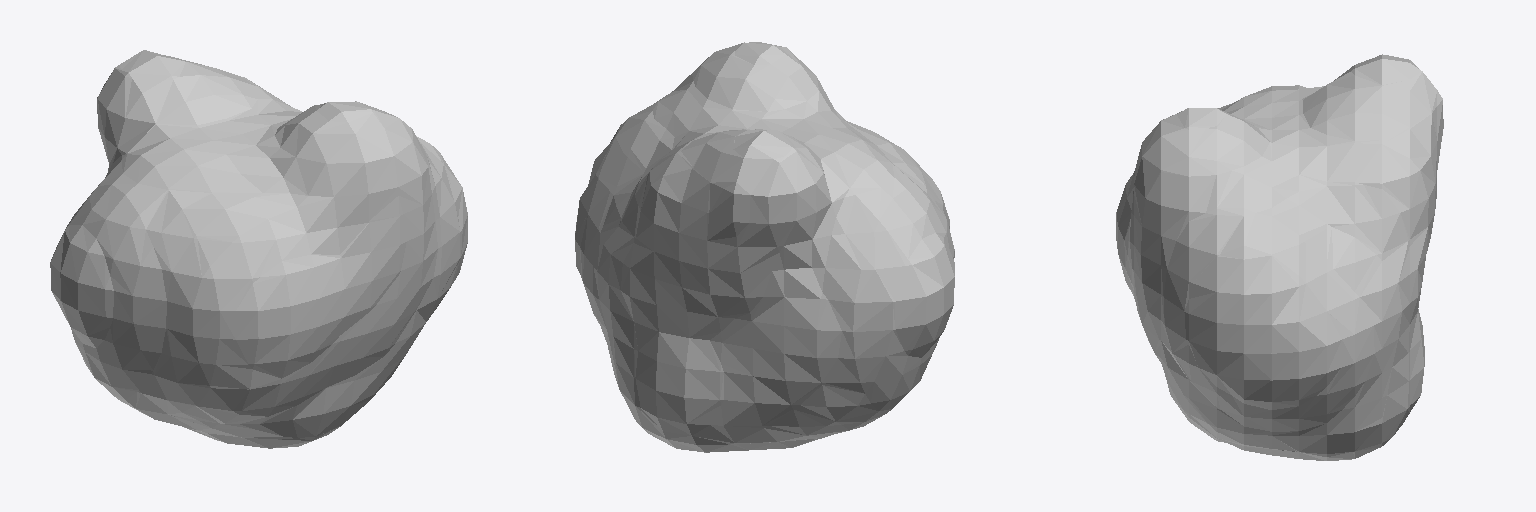
File: 1e2b_cms.obj
The picture shows the model from 3 angles: view 1: azimuth 30°, elevation 25°; view 2: azimuth 150°, elevation 25°; view 3: azimuth 270°, elevation 25°; orthographic projection.
Bounding box in the file's own units: 51.31 × 45.99 × 39.11.